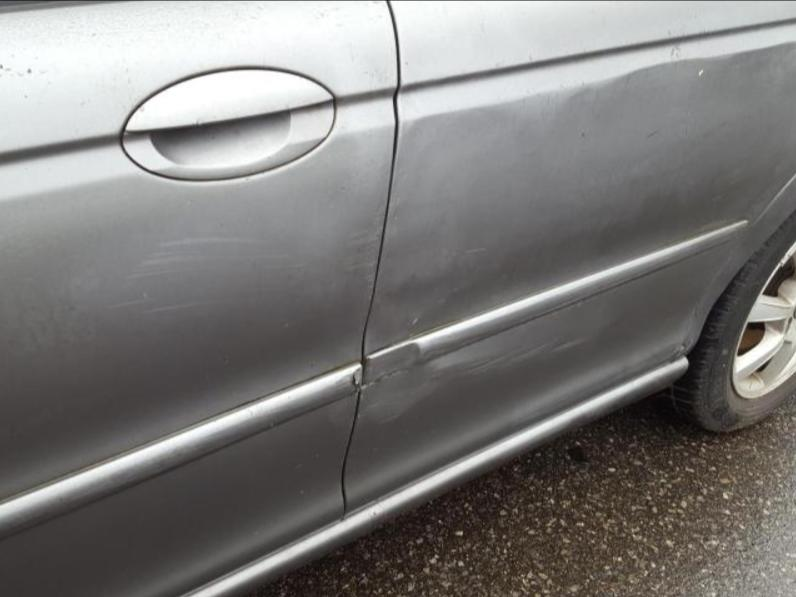Dent: (391, 42, 794, 144)
Scratch: (340, 237, 381, 304), (138, 230, 267, 251), (461, 341, 524, 376), (345, 203, 386, 239), (136, 300, 192, 321), (112, 267, 174, 285), (547, 332, 590, 354), (147, 250, 196, 267), (360, 371, 403, 390), (94, 295, 143, 311), (252, 263, 302, 275), (512, 344, 540, 365), (260, 247, 304, 259), (288, 456, 312, 474), (449, 245, 482, 257), (381, 410, 403, 425), (241, 282, 277, 291), (362, 403, 381, 416), (189, 297, 218, 305), (409, 314, 418, 328), (453, 284, 464, 290), (448, 290, 457, 294)
